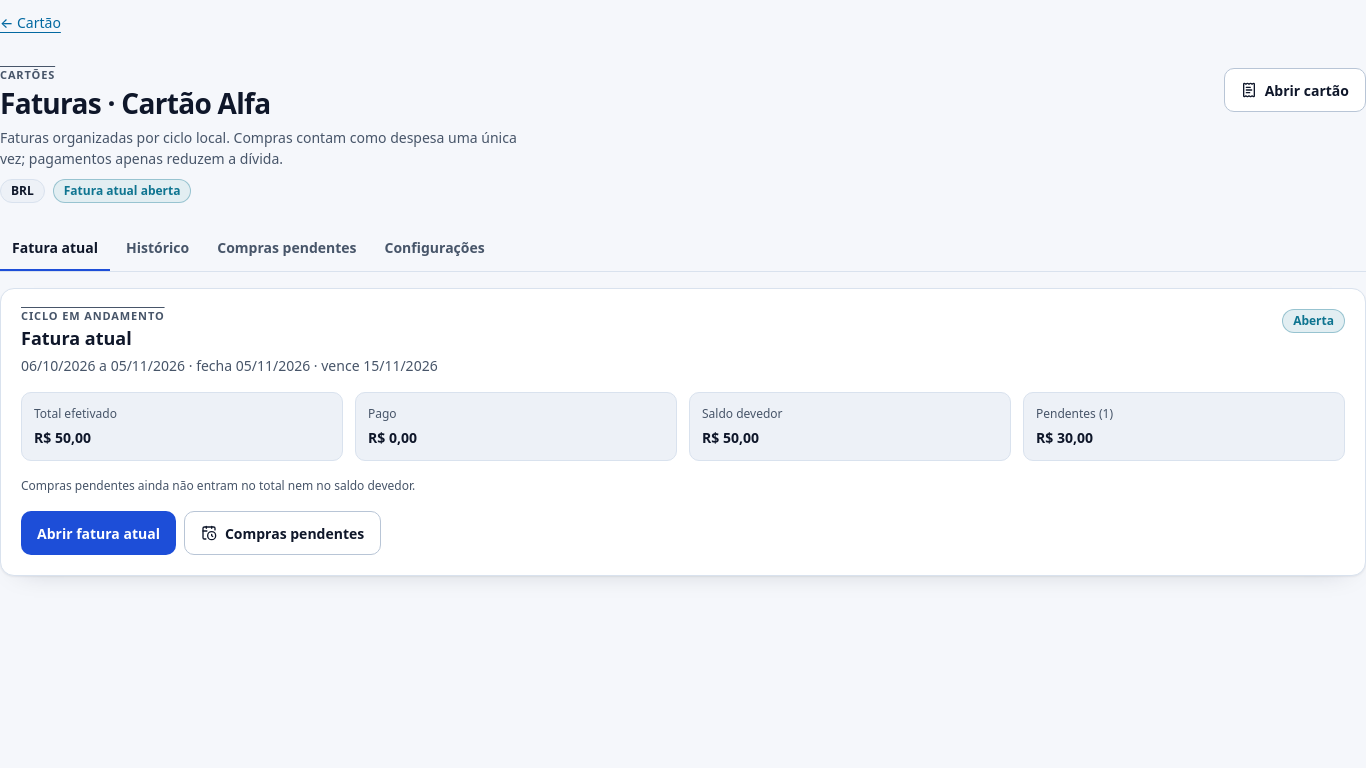
Test: faturas do cartão › separa compras pendentes, compras não alocadas e créditos não alocados
The width and height of the screenshot is (1366, 768).
Expected: the heading "Faturas · Cartão Alfa" is shown, [0,84,270,122]
Click the tab "Compras pendentes".
click(287, 249)  # box [205,227,368,271]
(page scrolled)
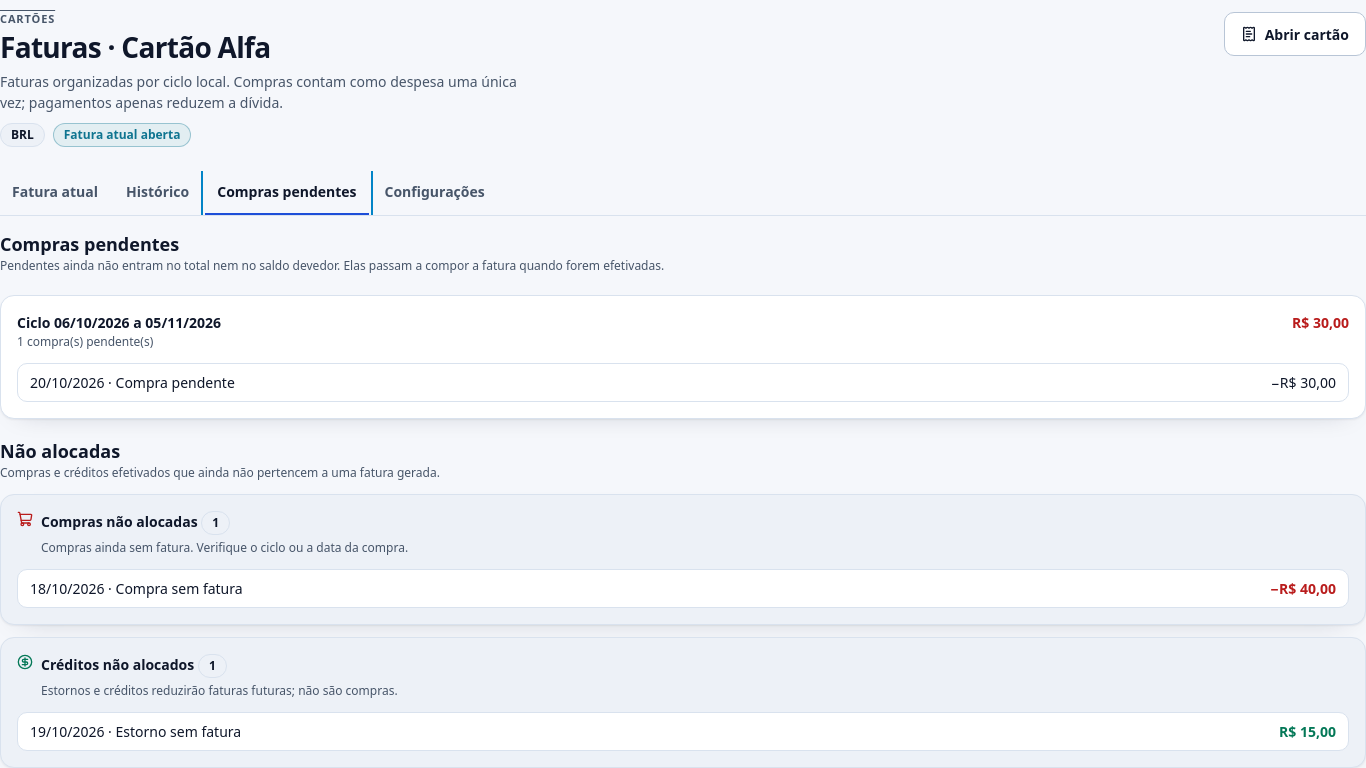
Expected: the text "20/10/2026 · Compra pendente" is shown, [30,372,235,393]
Expected: the element "Compras não alocadas" is shown, [41,511,408,557]
Expected: the text "18/10/2026 · Compra sem fatura" is shown, [30,578,243,599]
